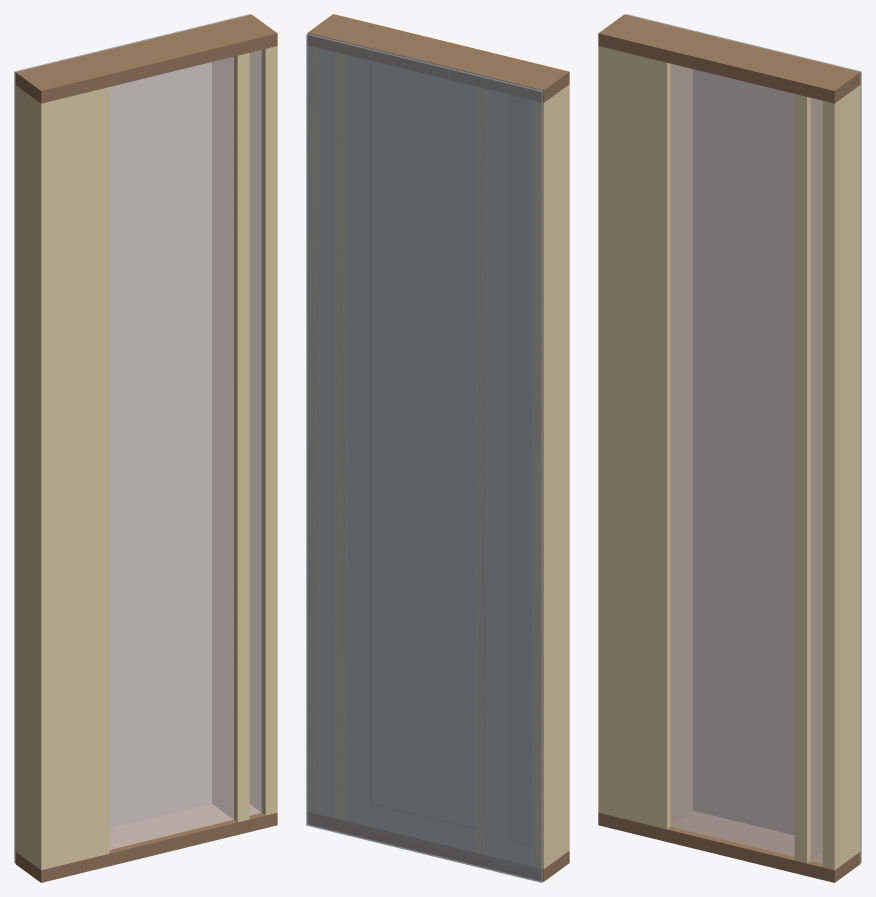
The picture shows the model from 3 angles, left to right: view 1: azimuth 30°, elevation 25°; view 2: azimuth 150°, elevation 25°; view 3: azimuth 330°, elevation 25°; orthographic projection.
Visible parts, largest first — view 1: EX4 GF; view 2: EX4 GF; view 3: EX4 GF.
Boxes of the visible parts, <box> form: EX4 GF: <box>14,14,277,882</box>; EX4 GF: <box>306,14,569,882</box>; EX4 GF: <box>598,14,861,882</box>.
Bounding box in the file's own units: 0.745 × 2.39 × 0.149.
